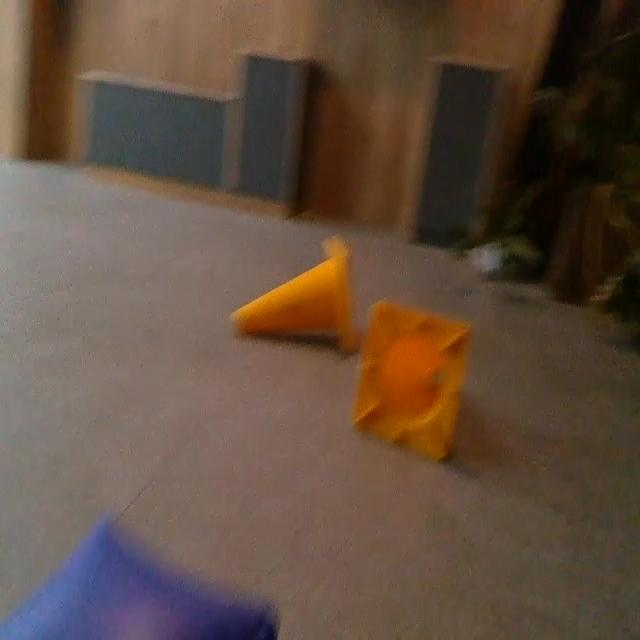cone: (354, 297, 474, 466), (228, 230, 358, 352)
